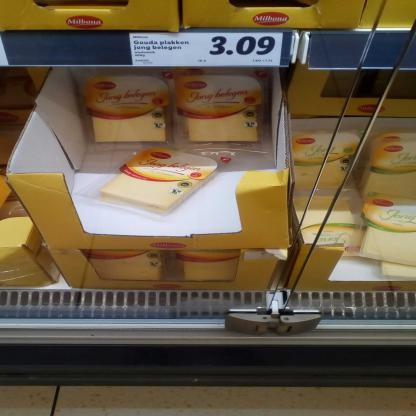prtg: (131, 34, 284, 67)
